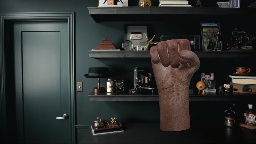Pugno: (147, 37, 202, 88)
